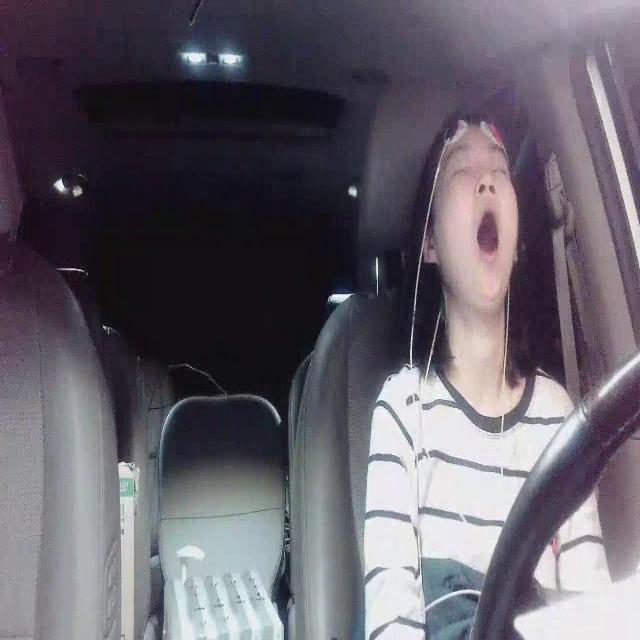Yawning: (475, 205, 503, 265)
